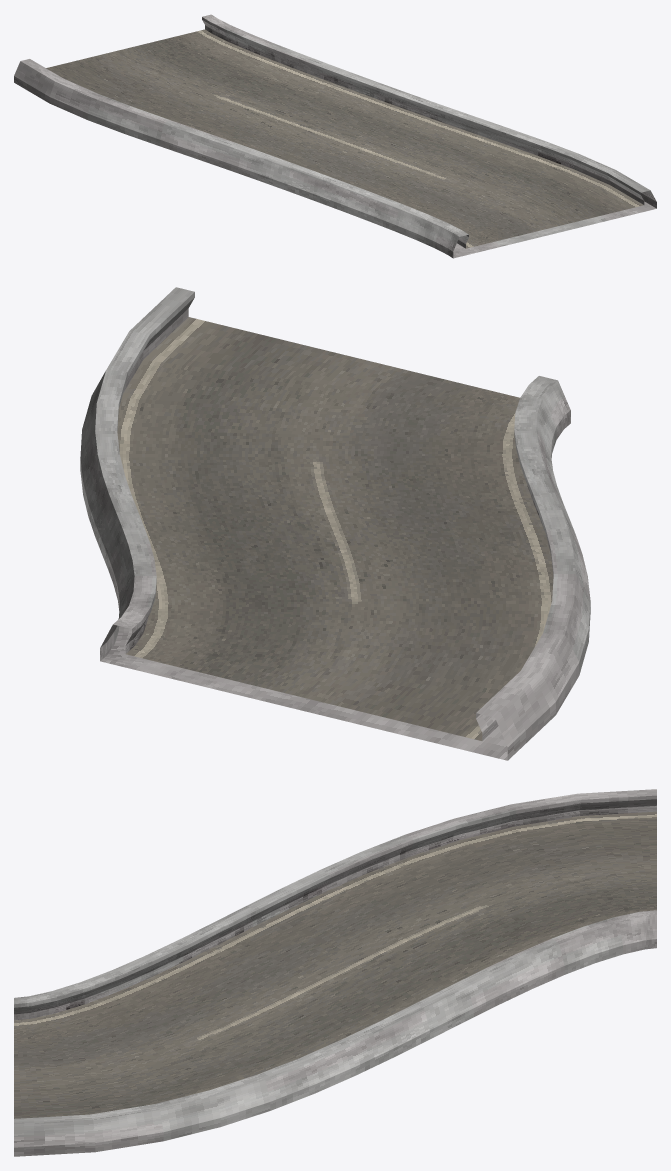
File: chicane-left1x2.glb
3 renders of one model, top to bottom at view 1: azimuth 30°, elevation 25°; view 2: azimuth 150°, elevation 25°; view 3: azimuth 270°, elevation 25°, orthographic. The views are drawn at different scales.
Visible parts, largest first — view 1: road-Chicane-Flat-Flat-Up1-Left1-Size2; view 2: road-Chicane-Flat-Flat-Up1-Left1-Size2; view 3: road-Chicane-Flat-Flat-Up1-Left1-Size2.
Part boxes in pixels (left/top/right/bottom): road-Chicane-Flat-Flat-Up1-Left1-Size2: left=14, top=14, right=656, bottom=258; road-Chicane-Flat-Flat-Up1-Left1-Size2: left=80, top=287, right=590, bottom=760; road-Chicane-Flat-Flat-Up1-Left1-Size2: left=14, top=789, right=656, bottom=1156.
Bounding box in the file's own units: 2 × 0.3438 × 2.
Materials: 2 (2 with a texture image).
